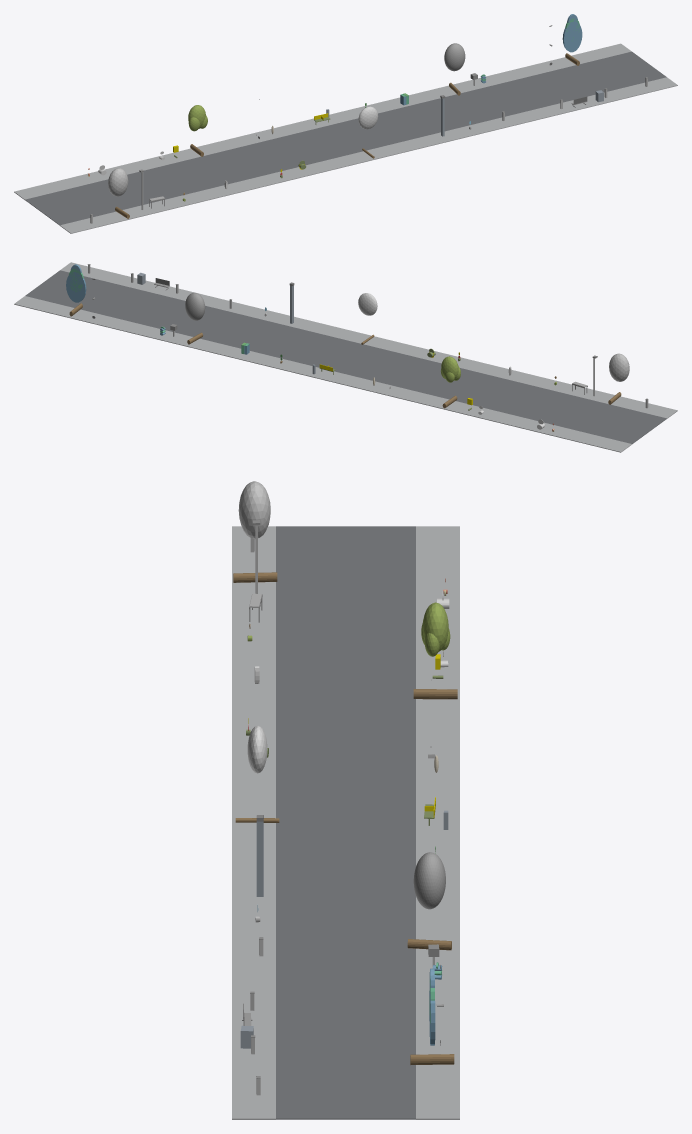
3 renders of one model, top to bottom at view 1: azimuth 30°, elevation 25°; view 2: azimuth 150°, elevation 25°; view 3: azimuth 270°, elevation 25°, orthographic. The views are drawn at different scales.
Parts seen in each view (by area): view 1: road_slab, sidewalk_left, sidewalk_right, inst_0016, inst_0012, inst_0015, inst_0013, inst_0014; view 2: road_slab, sidewalk_right, sidewalk_left, inst_0016, inst_0012, inst_0015, inst_0013, inst_0014; view 3: road_slab, sidewalk_left, sidewalk_right, inst_0015, inst_0012, inst_0013, inst_0016, inst_0014.
Boxes of the visible parts, bbox=[...] form: road_slab: bbox=[25, 51, 666, 225]; sidewalk_left: bbox=[60, 77, 677, 233]; sidewalk_right: bbox=[14, 43, 631, 199]; inst_0016: bbox=[562, 14, 582, 65]; inst_0012: bbox=[108, 168, 129, 218]; inst_0015: bbox=[444, 43, 465, 95]; inst_0013: bbox=[188, 105, 207, 156]; inst_0014: bbox=[358, 106, 378, 158]; road_slab: bbox=[25, 270, 666, 444]; sidewalk_right: bbox=[14, 296, 631, 452]; sidewalk_left: bbox=[60, 262, 677, 418]; inst_0016: bbox=[66, 264, 86, 316]; inst_0012: bbox=[608, 353, 629, 404]; inst_0015: bbox=[185, 292, 205, 344]; inst_0013: bbox=[440, 356, 460, 408]; inst_0014: bbox=[358, 293, 377, 344]; road_slab: bbox=[276, 526, 415, 1119]; sidewalk_left: bbox=[232, 526, 275, 1119]; sidewalk_right: bbox=[416, 526, 459, 1119]; inst_0015: bbox=[407, 852, 451, 950]; inst_0012: bbox=[233, 481, 277, 582]; inst_0013: bbox=[413, 602, 457, 699]; inst_0016: bbox=[410, 968, 454, 1064]; inst_0014: bbox=[235, 725, 279, 822].
Bounding box in the file's own units: 80 × 6.08 × 13.
